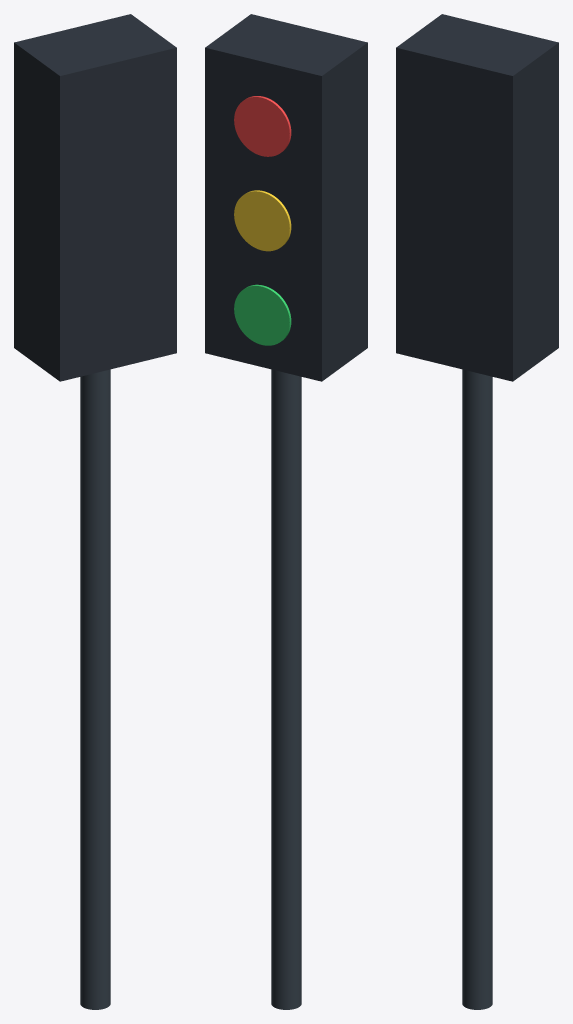
The model's file is signal.glb.
3 renders of one model, left to right at view 1: azimuth 30°, elevation 25°; view 2: azimuth 150°, elevation 25°; view 3: azimuth 330°, elevation 25°, orthographic.
Visible parts, largest first — view 1: head, pole; view 2: head, pole, lamp1, lamp2, lamp0; view 3: head, pole.
Boxes of the visible parts, x1,y1,x2,y2 form: head: (14,14,176,381); pole: (80,369,110,1009); head: (205,14,367,381); pole: (271,369,301,1009); lamp1: (234,190,291,251); lamp2: (234,284,291,345); lamp0: (234,96,291,156); head: (396,14,558,381); pole: (462,369,492,1009).
Size of the model in its own units: 0.44 by 3.45 by 0.31.
